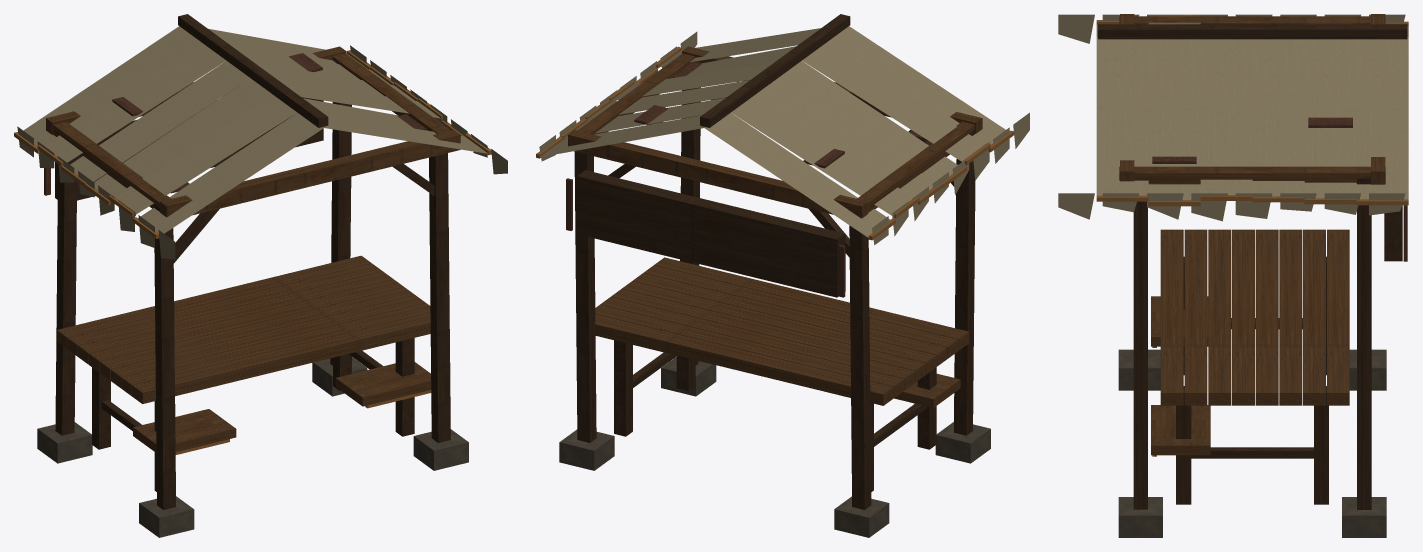
Rendered from village_market_stall.glb.
The picture shows the model from 3 angles, left to right: view 1: azimuth 30°, elevation 25°; view 2: azimuth 150°, elevation 25°; view 3: azimuth 270°, elevation 25°; orthographic projection. The views are drawn at different scales.
Parts seen in each view (by area): view 1: oak_planks_and_supports, natural_dyed_canvas, dark_timber_and_frame, broken_fieldstone, weathered_rope, oxide_sheet_metal; view 2: dark_timber_and_frame, natural_dyed_canvas, oak_planks_and_supports, broken_fieldstone, weathered_rope, oxide_sheet_metal; view 3: natural_dyed_canvas, oak_planks_and_supports, dark_timber_and_frame, broken_fieldstone, weathered_rope, oxide_sheet_metal.
Part boxes in pixels (<box>): oak_planks_and_supports: <box>46,46,460,452</box>; natural_dyed_canvas: <box>17,26,507,259</box>; dark_timber_and_frame: <box>55,14,450,509</box>; broken_fieldstone: <box>37,357,468,537</box>; weathered_rope: <box>14,50,491,454</box>; oxide_sheet_metal: <box>44,53,426,195</box>; dark_timber_and_frame: <box>574,14,975,509</box>; natural_dyed_canvas: <box>539,26,1029,245</box>; oak_planks_and_supports: <box>568,46,982,407</box>; broken_fieldstone: <box>559,357,990,537</box>; weathered_rope: <box>536,46,1014,240</box>; oxide_sheet_metal: <box>566,62,928,297</box>; natural_dyed_canvas: <box>1058,14,1408,221</box>; oak_planks_and_supports: <box>1119,14,1385,455</box>; dark_timber_and_frame: <box>1098,24,1407,509</box>; broken_fieldstone: <box>1118,349,1386,537</box>; weathered_rope: <box>1096,14,1408,456</box>; oxide_sheet_metal: <box>1152,23,1407,261</box>.
Bounding box in the file's own units: 2.79 × 3.09 × 2.29.
Materials: 6 (6 with a texture image).
